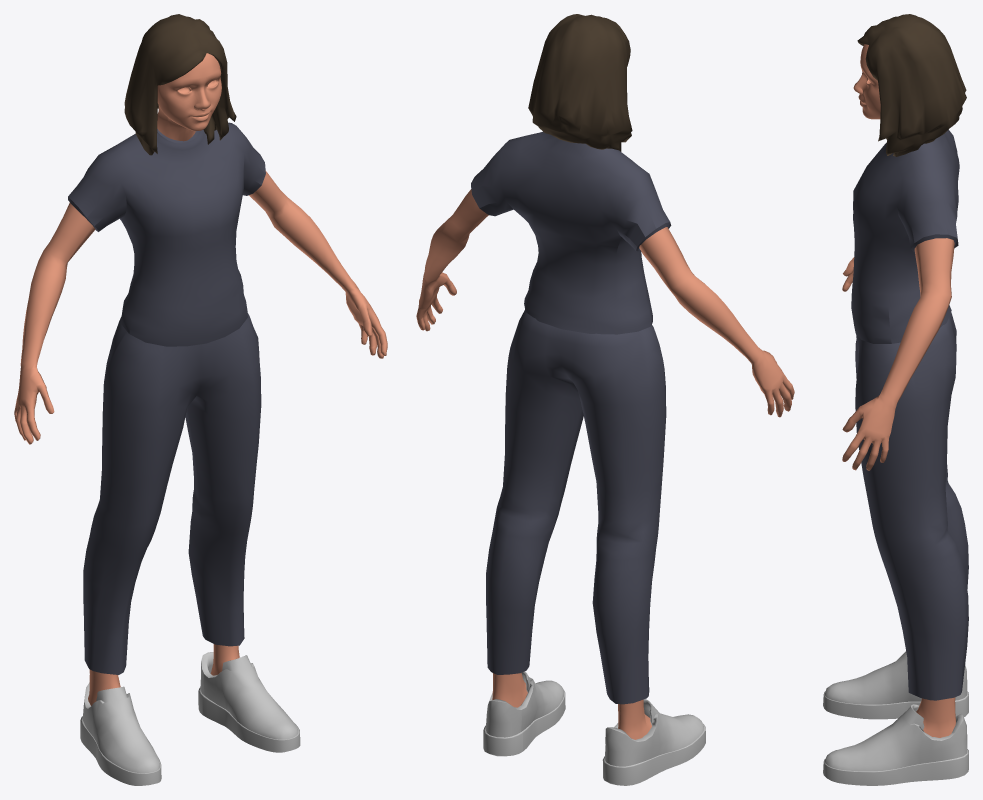
File: woman1.glb
The picture shows the model from 3 angles, left to right: view 1: azimuth 30°, elevation 25°; view 2: azimuth 150°, elevation 25°; view 3: azimuth 270°, elevation 25°; orthographic projection.
Parts seen in each view (by area): view 1: Wolf3D_Outfit_Bottom, Wolf3D_Outfit_Top, Wolf3D_Outfit_Footwear, Wolf3D_Body.001, Wolf3D_Hair, Wolf3D_Head, Wolf3D_Body; view 2: Wolf3D_Outfit_Bottom, Wolf3D_Outfit_Top, Wolf3D_Hair, Wolf3D_Body.001, Wolf3D_Outfit_Footwear, Wolf3D_Body; view 3: Wolf3D_Outfit_Bottom, Wolf3D_Outfit_Top, Wolf3D_Outfit_Footwear, Wolf3D_Hair, Wolf3D_Body.001, Wolf3D_Body, Wolf3D_Head.
Boxes of the visible parts, x1,y1,x2,y2 form: Wolf3D_Outfit_Bottom: (83,313,261,674); Wolf3D_Outfit_Top: (68,122,265,346); Wolf3D_Outfit_Footwear: (80,652,300,785); Wolf3D_Body.001: (14,171,387,444); Wolf3D_Hair: (124,14,236,155); Wolf3D_Head: (157,53,221,141); Wolf3D_Body: (88,644,239,705); Wolf3D_Outfit_Bottom: (486,309,666,704); Wolf3D_Outfit_Top: (471,132,671,334); Wolf3D_Hair: (528,14,632,151); Wolf3D_Body.001: (416,189,794,417); Wolf3D_Outfit_Footwear: (483,671,705,785); Wolf3D_Body: (492,673,651,739); Wolf3D_Outfit_Bottom: (855,312,968,700); Wolf3D_Outfit_Top: (851,129,959,343); Wolf3D_Outfit_Footwear: (823,651,968,785); Wolf3D_Hair: (857,14,966,156); Wolf3D_Body.001: (842,238,954,470); Wolf3D_Body: (916,697,955,737); Wolf3D_Head: (853,44,880,119).
Size of the model in its own units: 9.48 by 18.02 by 3.3.
Materials: 4 (1 with a texture image).
